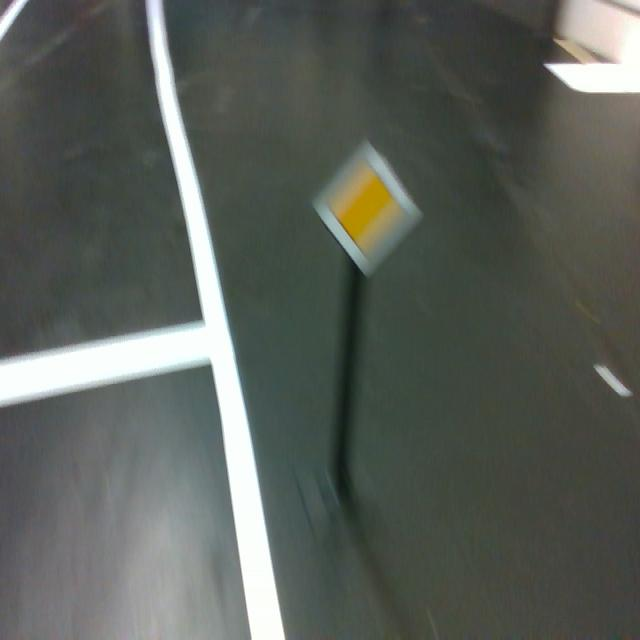priority-sign: (311, 137, 424, 280)
